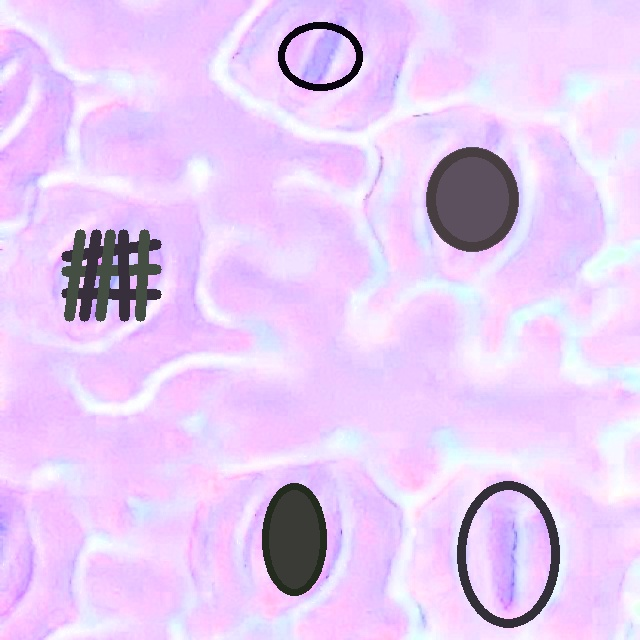open: (456, 479, 560, 628), (426, 147, 519, 252), (61, 230, 161, 320), (262, 483, 325, 595), (277, 22, 363, 89)
